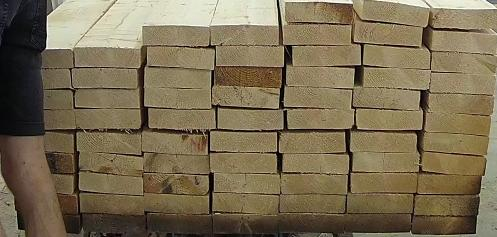Wood-Plank: (355, 22, 423, 48), (362, 0, 430, 25), (142, 129, 208, 154), (422, 151, 488, 176), (363, 66, 431, 90), (354, 86, 422, 110), (285, 86, 353, 110), (147, 47, 215, 70), (293, 44, 362, 66), (148, 108, 216, 130), (364, 46, 432, 68), (76, 131, 141, 154), (432, 51, 497, 74), (144, 66, 211, 88), (215, 66, 282, 88), (421, 132, 488, 154), (425, 114, 492, 136), (287, 66, 354, 88), (286, 2, 353, 24), (280, 131, 346, 153), (216, 45, 285, 66), (147, 214, 212, 236), (213, 87, 281, 108), (287, 108, 355, 129), (79, 172, 143, 194), (218, 108, 282, 130), (428, 93, 495, 114), (79, 154, 142, 176), (82, 214, 145, 236), (431, 31, 497, 52), (433, 7, 496, 29), (144, 88, 212, 108), (210, 132, 278, 152), (416, 195, 480, 216), (75, 47, 139, 68), (72, 68, 139, 88), (213, 194, 280, 214), (357, 110, 424, 130), (351, 132, 418, 152), (214, 174, 280, 194), (348, 194, 414, 214), (282, 174, 348, 194), (283, 154, 349, 174), (354, 152, 420, 172), (351, 173, 417, 193), (75, 88, 140, 108), (79, 194, 144, 214), (144, 194, 209, 214), (144, 174, 209, 194), (144, 154, 209, 174), (143, 26, 208, 46), (209, 25, 277, 44), (432, 74, 496, 94), (210, 153, 277, 172), (419, 174, 482, 194), (281, 195, 347, 214), (75, 109, 140, 128), (344, 214, 412, 232), (213, 216, 279, 234), (284, 26, 353, 43), (279, 214, 344, 232), (21, 109, 76, 130), (25, 152, 77, 174), (18, 49, 72, 69), (25, 173, 76, 194), (414, 218, 478, 234), (23, 90, 74, 110), (33, 213, 80, 234), (25, 132, 74, 152), (29, 194, 78, 214), (21, 70, 72, 89)
